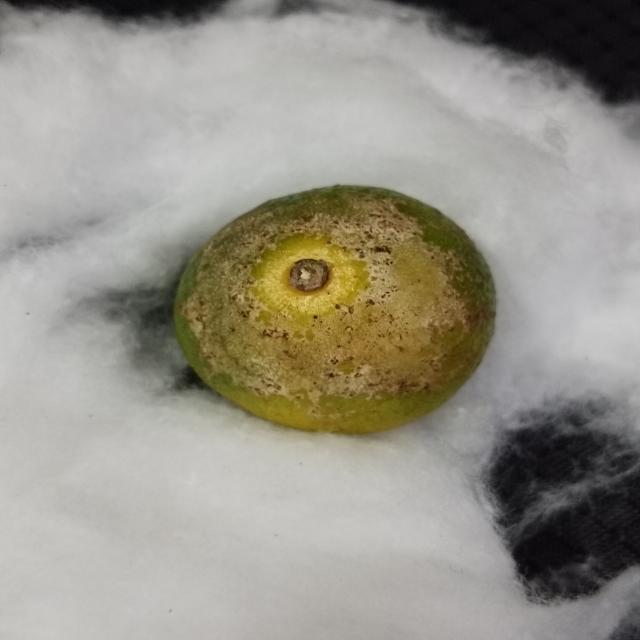thrips: (168, 180, 499, 441)
